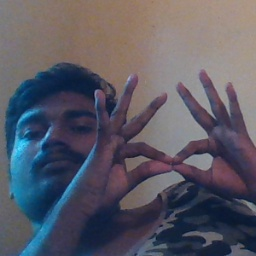B: (116, 116, 230, 199)
